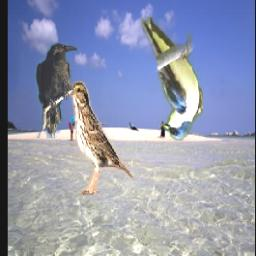Crow: (36, 42, 79, 138)
Sparrow: (68, 82, 135, 196)
Swallow: (141, 18, 203, 142)
